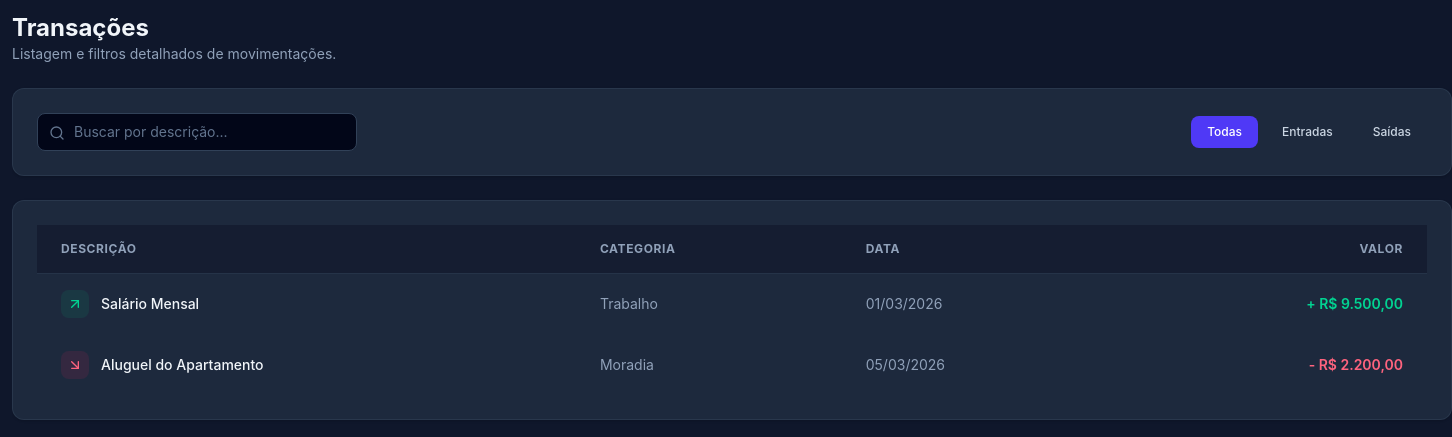
Scenario: TransactionsPage (Conformidade com Spec RF04) › deve filtrar transações quando selecionar a aba Saídas
Click the button "Saídas".
click(1392, 132)  # box [1357,116,1427,148]
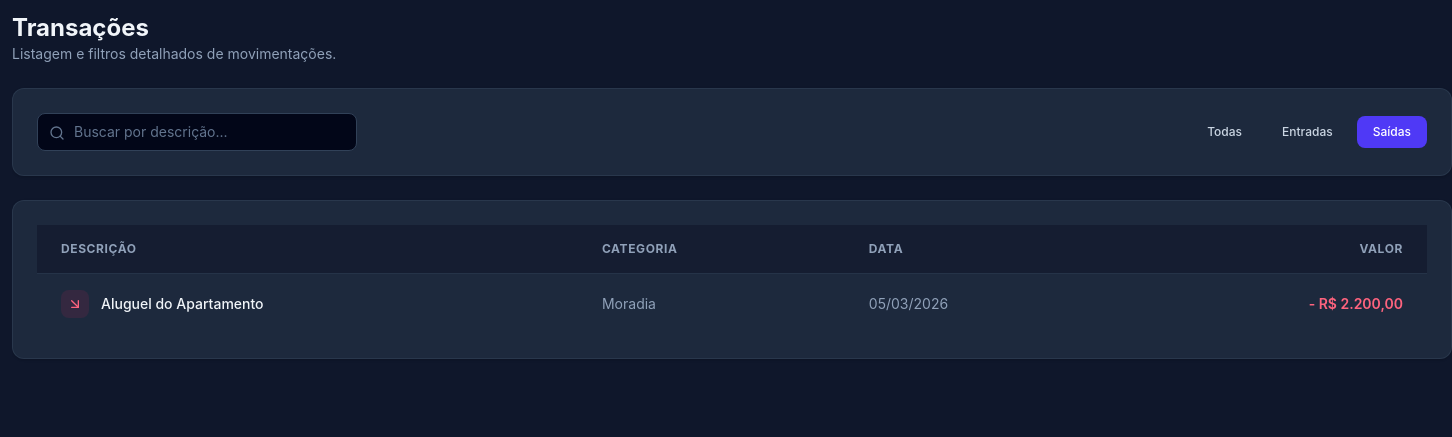
Expected: the text "Aluguel do Apartamento" is shown, [37,274,578,334]
Expected: the text "Salário Mensal" is gone
